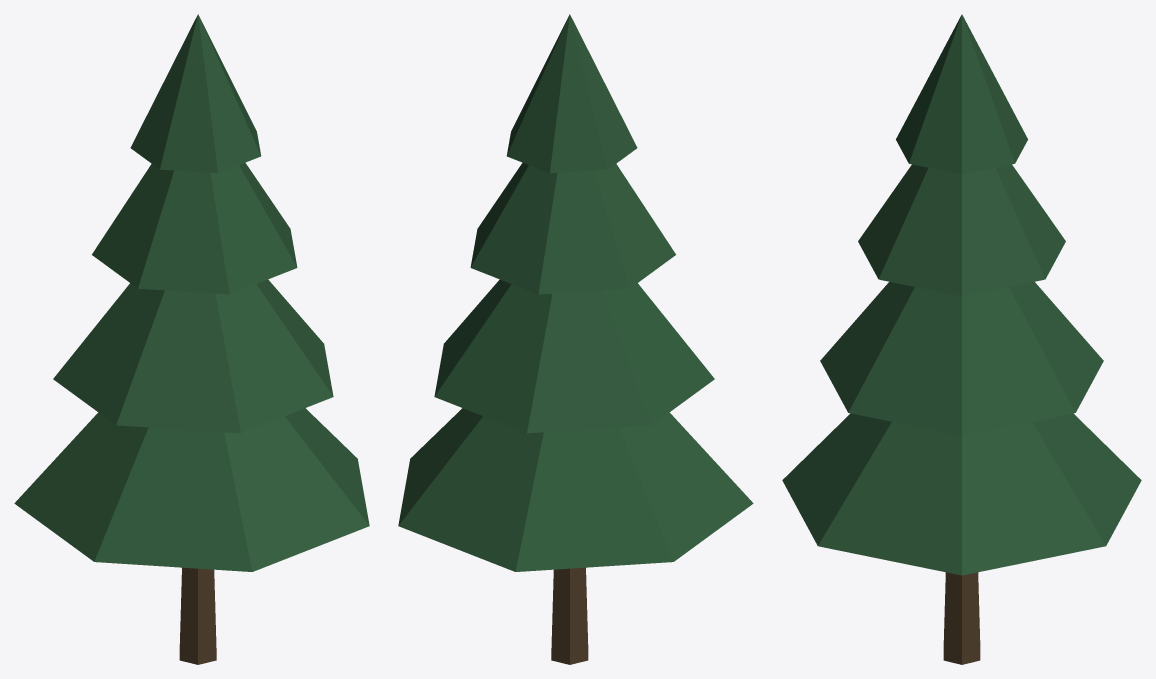
The model's file is FM_TreePine_01.glb.
3 renders of one model, left to right at view 1: azimuth 30°, elevation 25°; view 2: azimuth 150°, elevation 25°; view 3: azimuth 270°, elevation 25°, orthographic.
Visible parts, largest first — view 1: FM_TreePine_01; view 2: FM_TreePine_01; view 3: FM_TreePine_01.
Boxes of the visible parts, x1,y1,x2,y2 form: FM_TreePine_01: (14, 14, 369, 664); FM_TreePine_01: (398, 14, 753, 664); FM_TreePine_01: (782, 14, 1141, 664).
Size of the model in its own units: 3.61 by 7.3 by 3.7.
1 material, 1 textured.
